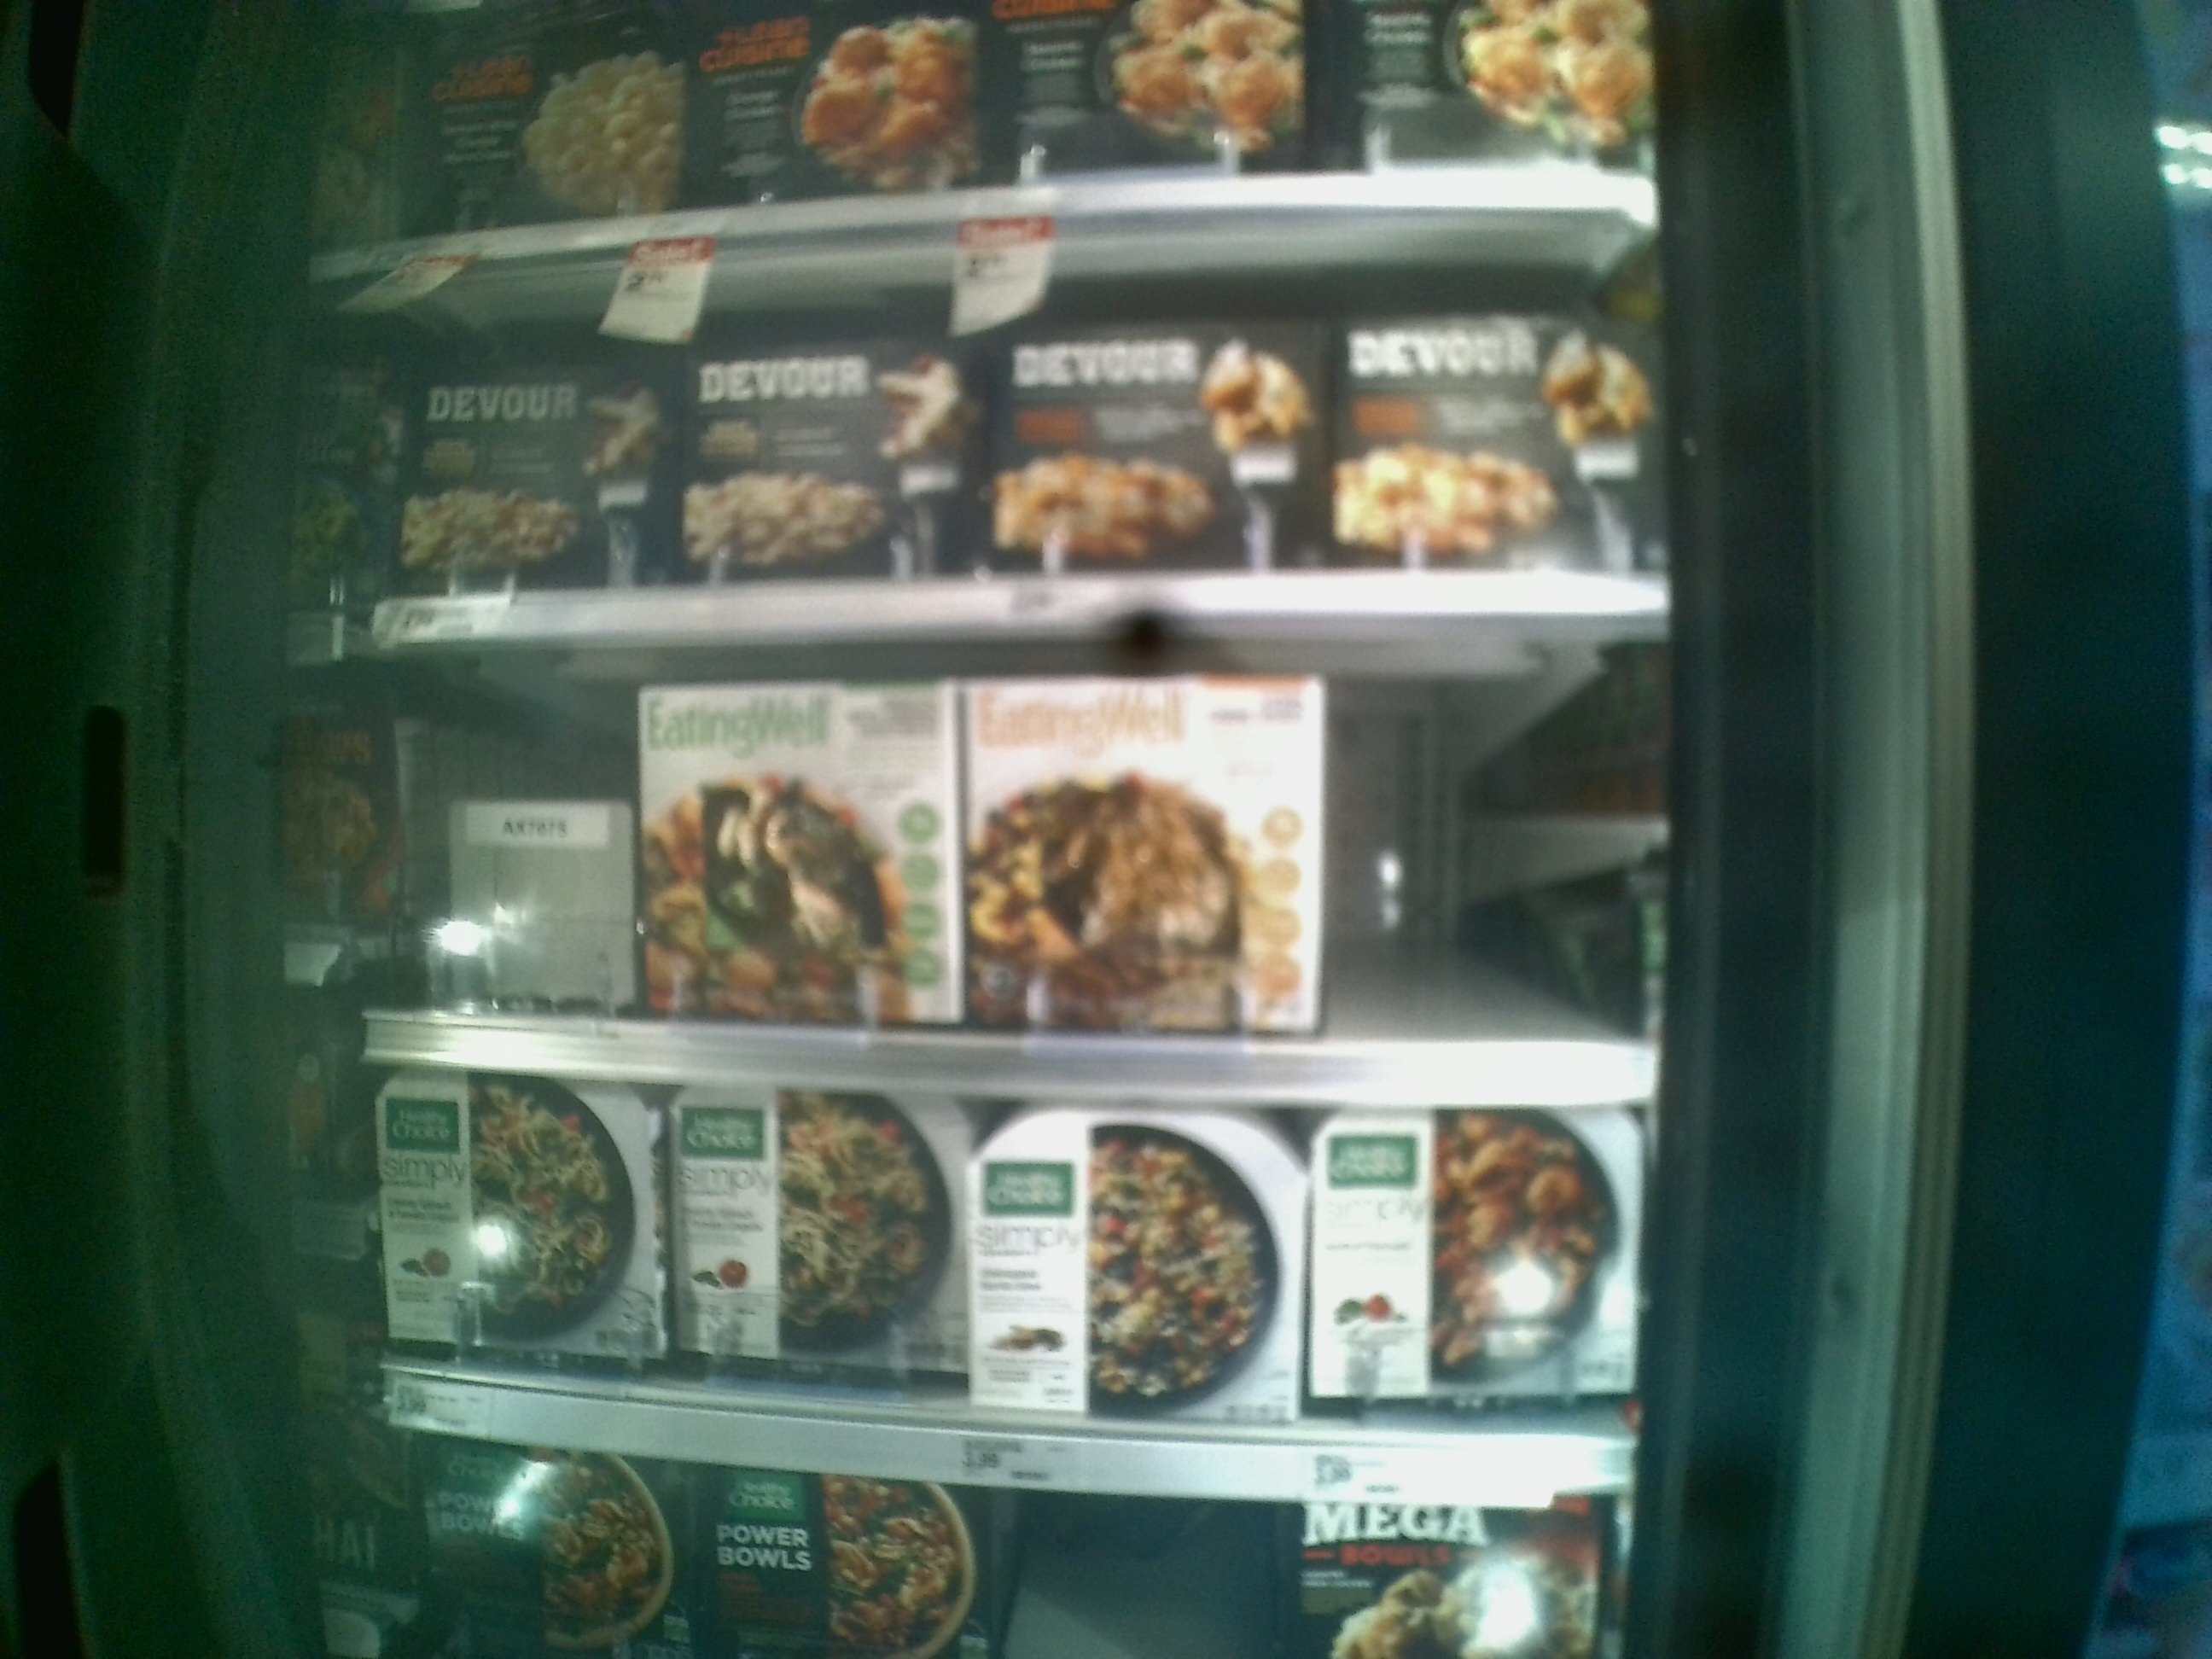shelf: (296, 619, 1674, 1110), (366, 1054, 1639, 1507), (294, 209, 1674, 622)
